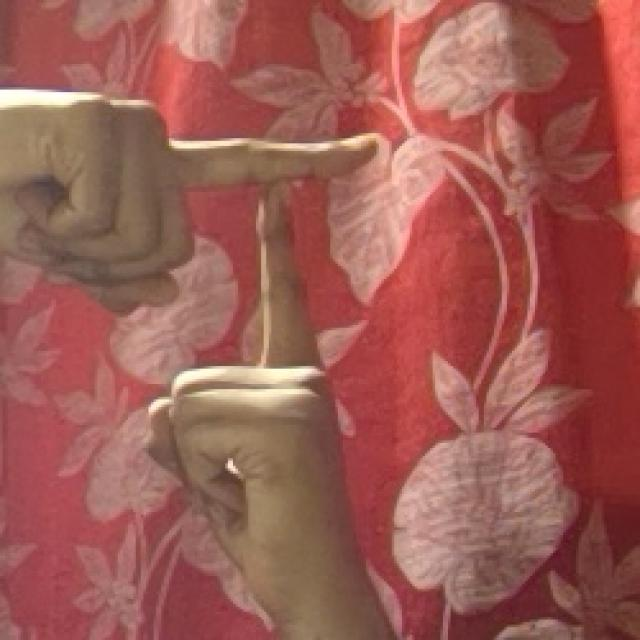Alphabet-T: (2, 77, 396, 640)
